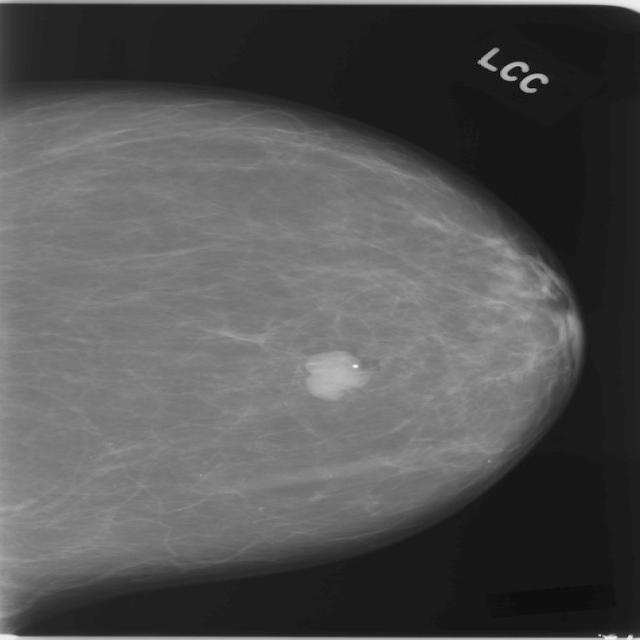tumour: (300, 348, 370, 400)
